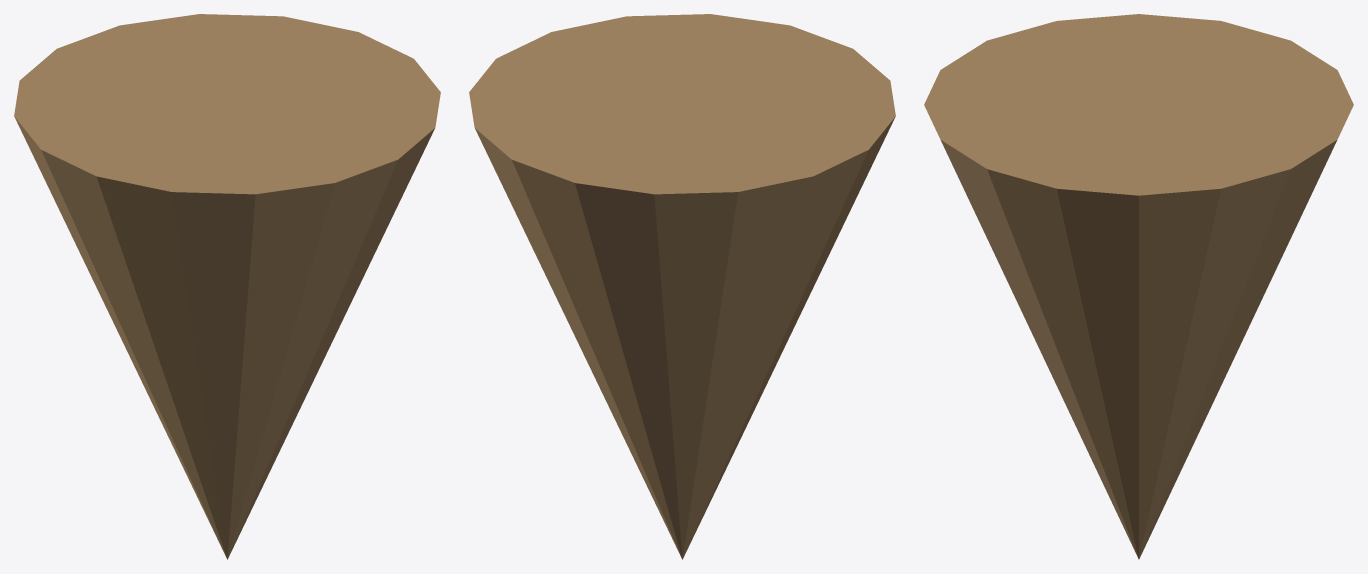
The model's file is landmark_sky_island_tip.glb.
3 views of the same model, side by side, from view 1: azimuth 30°, elevation 25°; view 2: azimuth 150°, elevation 25°; view 3: azimuth 270°, elevation 25° (orthographic).
Parts seen in each view (by area): view 1: isle_tip-col-col; view 2: isle_tip-col-col; view 3: isle_tip-col-col.
Part boxes in pixels (<box>): isle_tip-col-col: <box>14,14,440,559</box>; isle_tip-col-col: <box>469,14,895,559</box>; isle_tip-col-col: <box>924,14,1353,559</box>.
Size of the model in its own units: 41.53 by 48.51 by 41.53.
